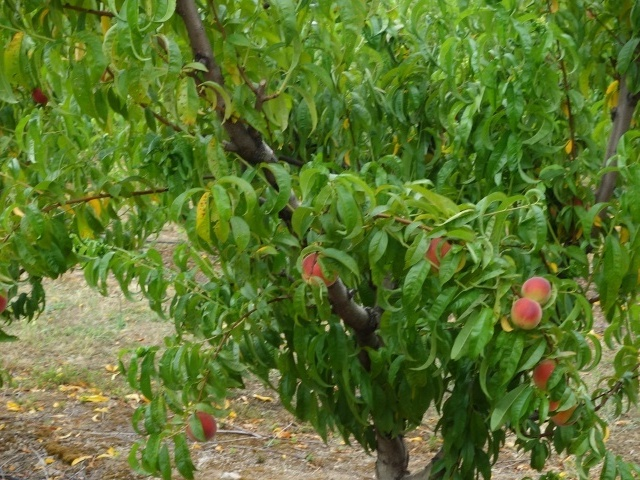peach: (424, 231, 471, 277), (297, 251, 342, 289), (505, 295, 546, 335), (183, 407, 221, 446), (518, 273, 557, 308), (547, 393, 583, 428), (530, 354, 563, 392), (26, 84, 53, 109)
